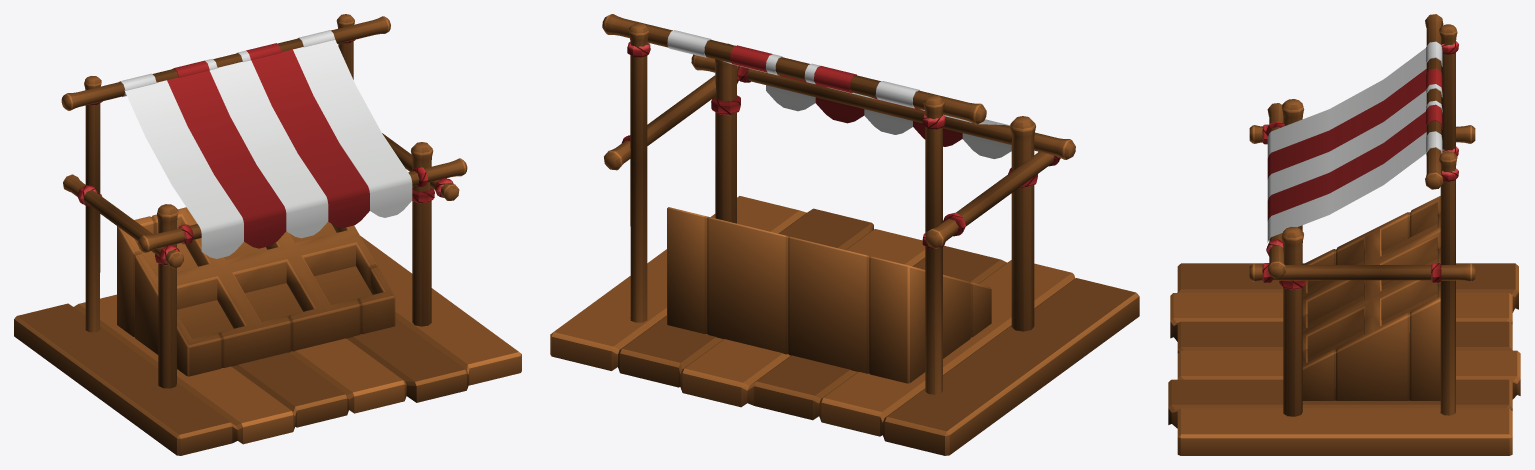
The model's file is Stall-1-1.fbx.
3 renders of one model, left to right at view 1: azimuth 30°, elevation 25°; view 2: azimuth 150°, elevation 25°; view 3: azimuth 270°, elevation 25°, orthographic. The views are drawn at different scales.
Visible parts, largest first — view 1: Stall-1-1; view 2: Stall-1-1; view 3: Stall-1-1.
Boxes of the visible parts, box(x1,y1,x2,y2) form: Stall-1-1: box(14, 14, 521, 455); Stall-1-1: box(550, 14, 1139, 455); Stall-1-1: box(1168, 14, 1520, 455).
Bounding box in the file's own units: 555 × 417 × 477.
